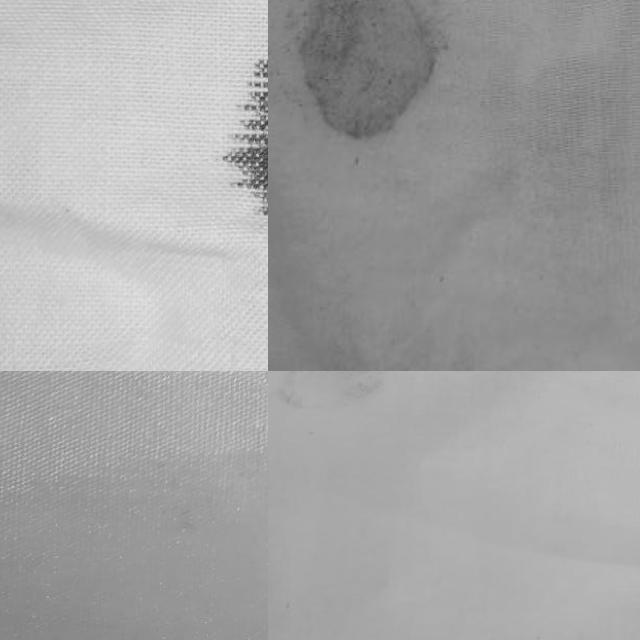Hole: (268, 0, 464, 205)
